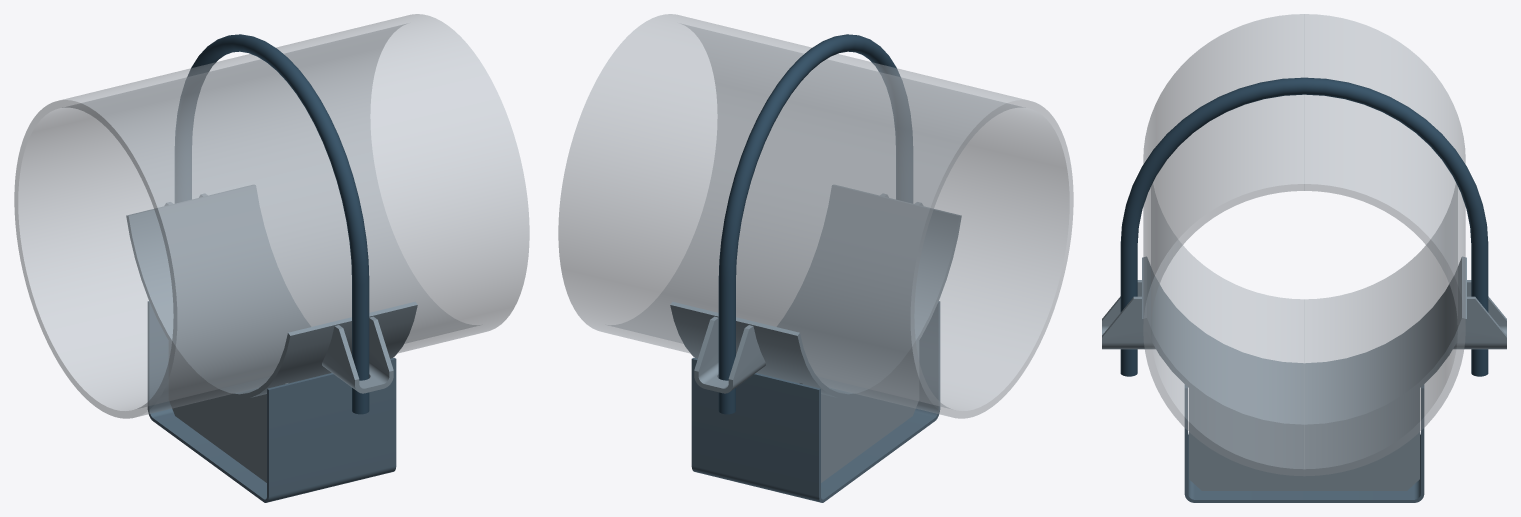
File: TS-626.00.000-021-opora-dn377-H100-L170.glb
3 views of the same model, side by side, from view 1: azimuth 30°, elevation 25°; view 2: azimuth 150°, elevation 25°; view 3: azimuth 270°, elevation 25° (orthographic).
Visible parts, largest first — view 1: truba, podushka_3, skoba_0, homut_0, rebro4_1, ushko_5; view 2: truba, podushka_3, skoba_0, homut_0, rebro4_1, ushko_4; view 3: truba, podushka_3, rebro4_2, homut_0, skoba_0, ushko_4, ushko_5.
Boxes of the visible parts, left/top/right/bottom form: truba: left=14, top=14, right=529, bottom=418; podushka_3: left=126, top=185, right=417, bottom=399; skoba_0: left=147, top=301, right=396, bottom=502; homut_0: left=175, top=34, right=369, bottom=414; rebro4_1: left=168, top=341, right=288, bottom=482; ushko_5: left=322, top=316, right=393, bottom=393; truba: left=558, top=14, right=1073, bottom=418; podushka_3: left=670, top=185, right=961, bottom=399; skoba_0: left=691, top=301, right=940, bottom=502; homut_0: left=718, top=34, right=912, bottom=414; rebro4_1: left=799, top=341, right=919, bottom=482; ushko_4: left=694, top=316, right=765, bottom=393; truba: left=1143, top=14, right=1465, bottom=476; podushka_3: left=1142, top=256, right=1466, bottom=429; rebro4_2: left=1189, top=388, right=1419, bottom=490; homut_0: left=1120, top=77, right=1488, bottom=376; skoba_0: left=1184, top=385, right=1424, bottom=502; ushko_4: left=1453, top=280, right=1506, bottom=349; ushko_5: left=1102, top=280, right=1155, bottom=349.
Bounding box in the file's own units: 470 × 508 × 473.
